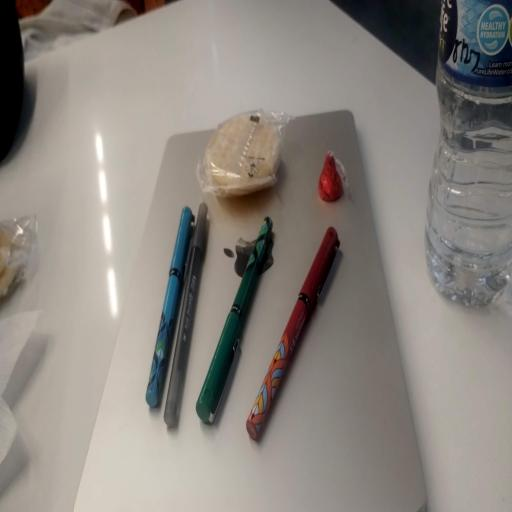chocolate: (318, 151, 347, 202)
pen: (247, 228, 339, 439), (196, 217, 272, 423), (164, 203, 208, 427), (146, 207, 193, 407)
waterbottle: (426, 0, 511, 305)
